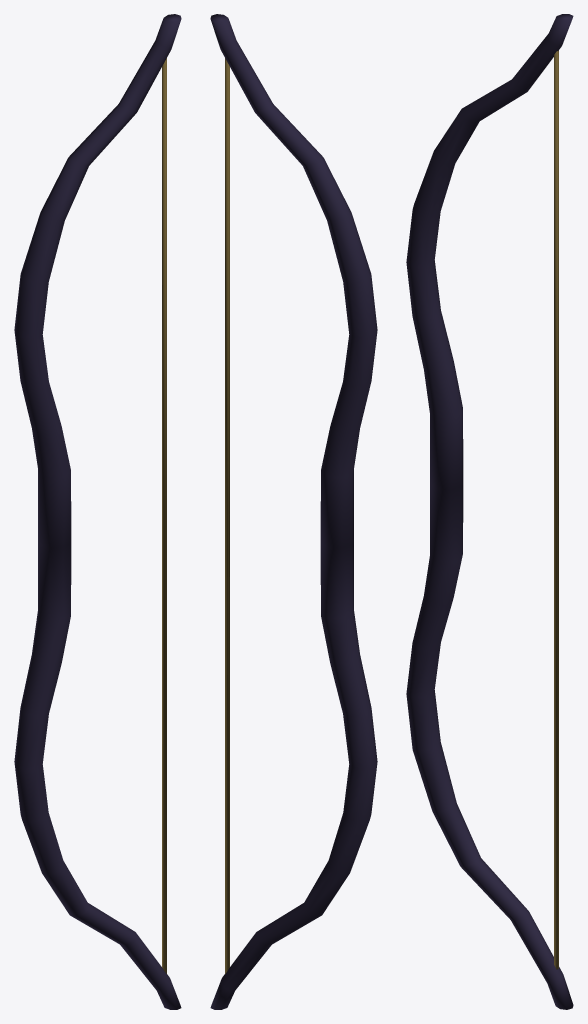
Rendered from recurve-bow.glb.
The picture shows the model from 3 angles, left to right: view 1: azimuth 30°, elevation 25°; view 2: azimuth 150°, elevation 25°; view 3: azimuth 330°, elevation 25°; orthographic projection.
Visible parts, largest first — view 1: Recurve Bow; view 2: Recurve Bow; view 3: Recurve Bow.
Boxes of the visible parts, <box> form: Recurve Bow: <box>14,14,181,1009</box>; Recurve Bow: <box>210,14,377,1009</box>; Recurve Bow: <box>406,14,573,1009</box>.
Bounding box in the file's own units: 0.216 × 1.24 × 0.039.
